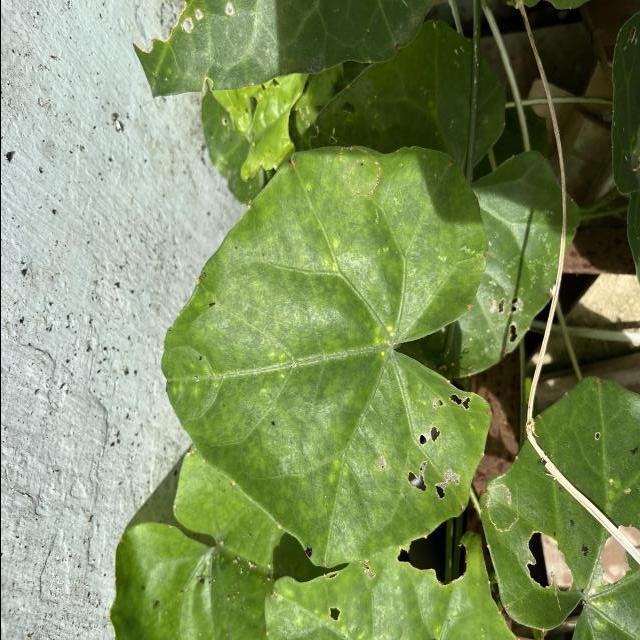Coccinia grandis: (158, 142, 494, 574)
